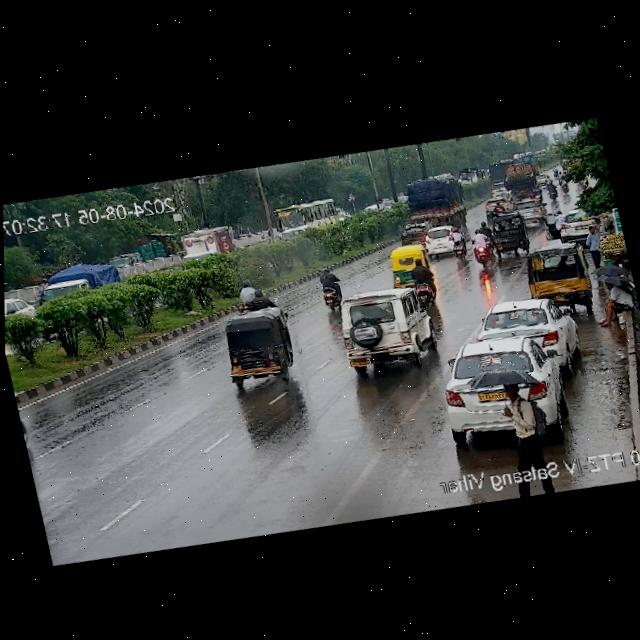bus: (268, 190, 342, 245)
car: (434, 325, 567, 417), (215, 302, 309, 398), (476, 287, 579, 369), (515, 238, 595, 316), (487, 206, 535, 261), (382, 238, 429, 291), (552, 202, 603, 245), (419, 223, 459, 260), (508, 194, 548, 226), (4, 292, 35, 325), (397, 217, 431, 247), (479, 193, 512, 218), (490, 180, 506, 196), (537, 171, 546, 184)
motorcycle: (395, 165, 466, 232), (308, 262, 346, 313), (466, 227, 495, 267), (234, 275, 258, 309), (446, 228, 468, 260), (251, 282, 270, 313), (476, 219, 494, 249), (545, 178, 559, 202), (532, 183, 544, 202), (559, 175, 570, 194), (552, 165, 559, 178)
person: (488, 368, 560, 486), (591, 272, 638, 331), (578, 221, 610, 268), (594, 215, 604, 233)
truck: (324, 273, 444, 382), (34, 253, 124, 317), (176, 219, 239, 270), (486, 150, 539, 187), (501, 156, 540, 201)
